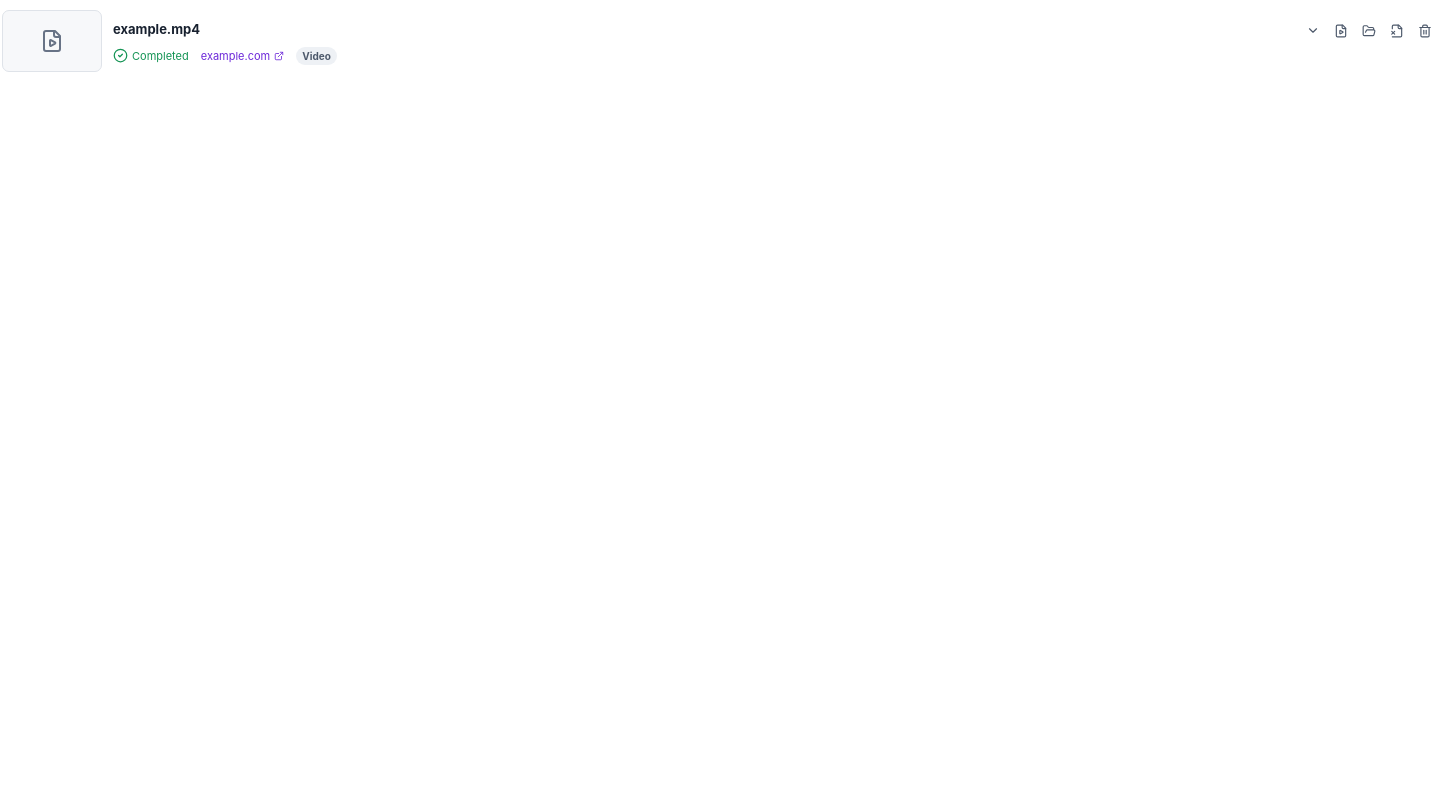
Vetch application contract › confirms file deletion in a modal dialog
The width and height of the screenshot is (1440, 810).
Click the button named "Delete file": [1397, 30] box [1384, 18, 1410, 44]
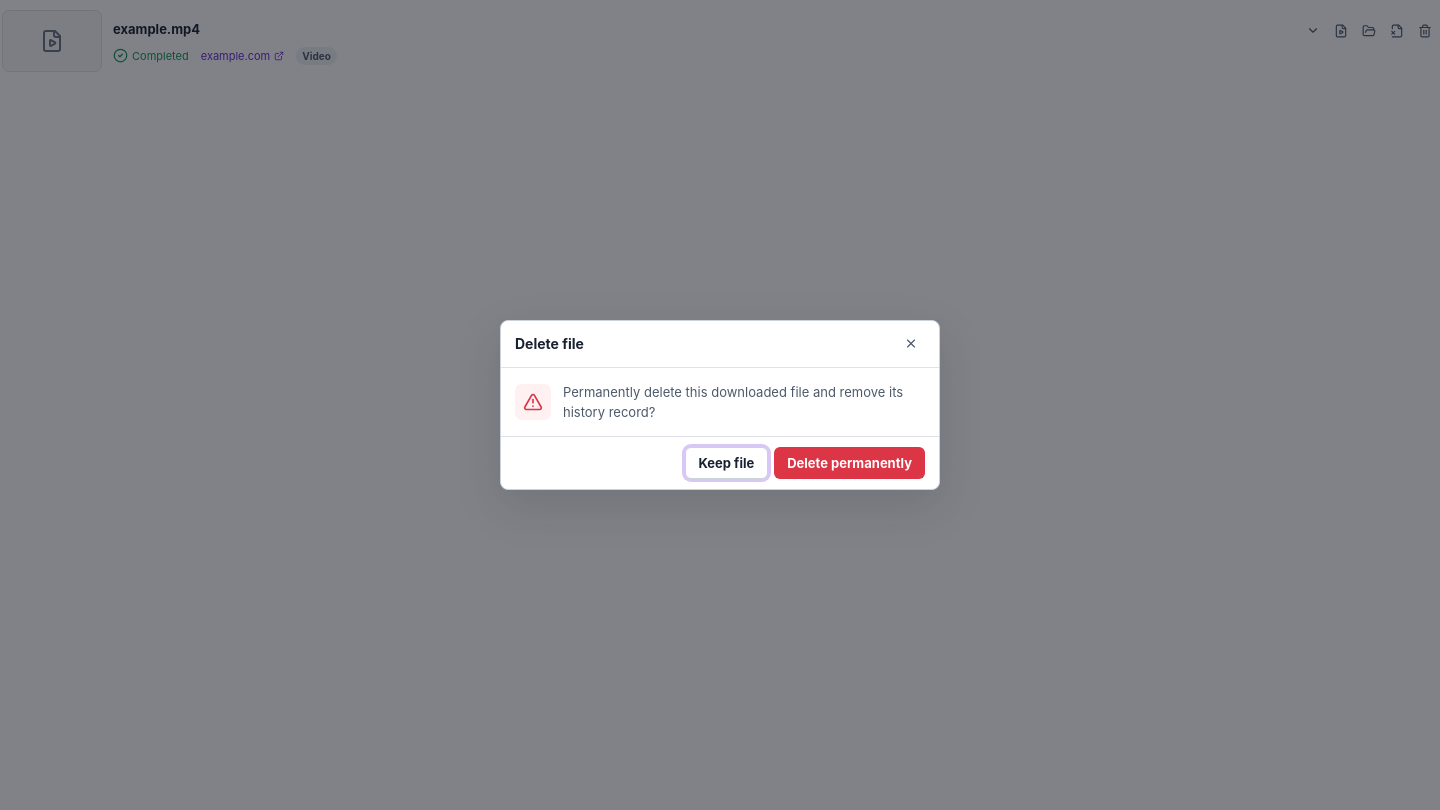
Now the element "Delete file" is shown
Press Escape
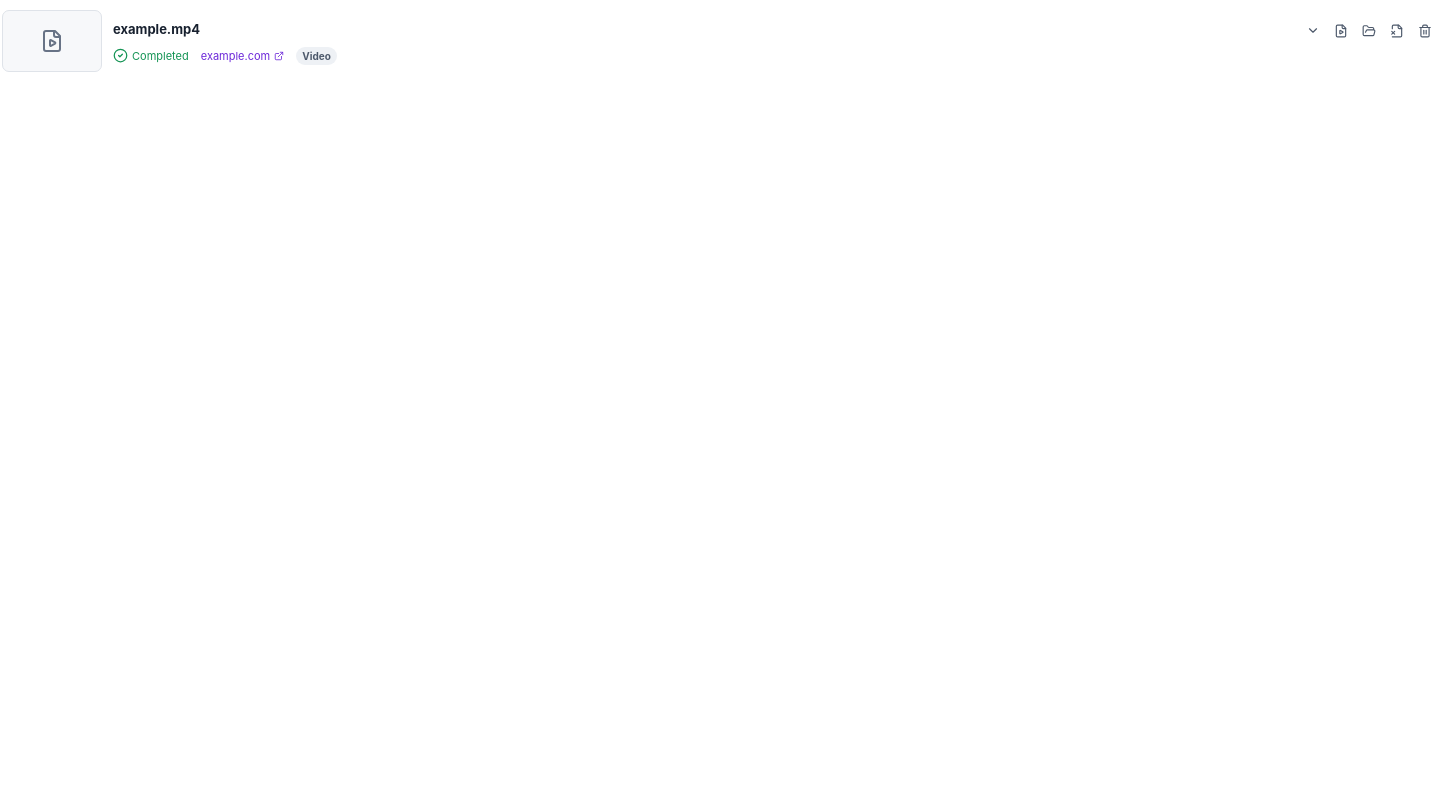
Now the heading "Delete file" is gone
Click the button named "Delete file": [1397, 30] box [1384, 18, 1410, 44]
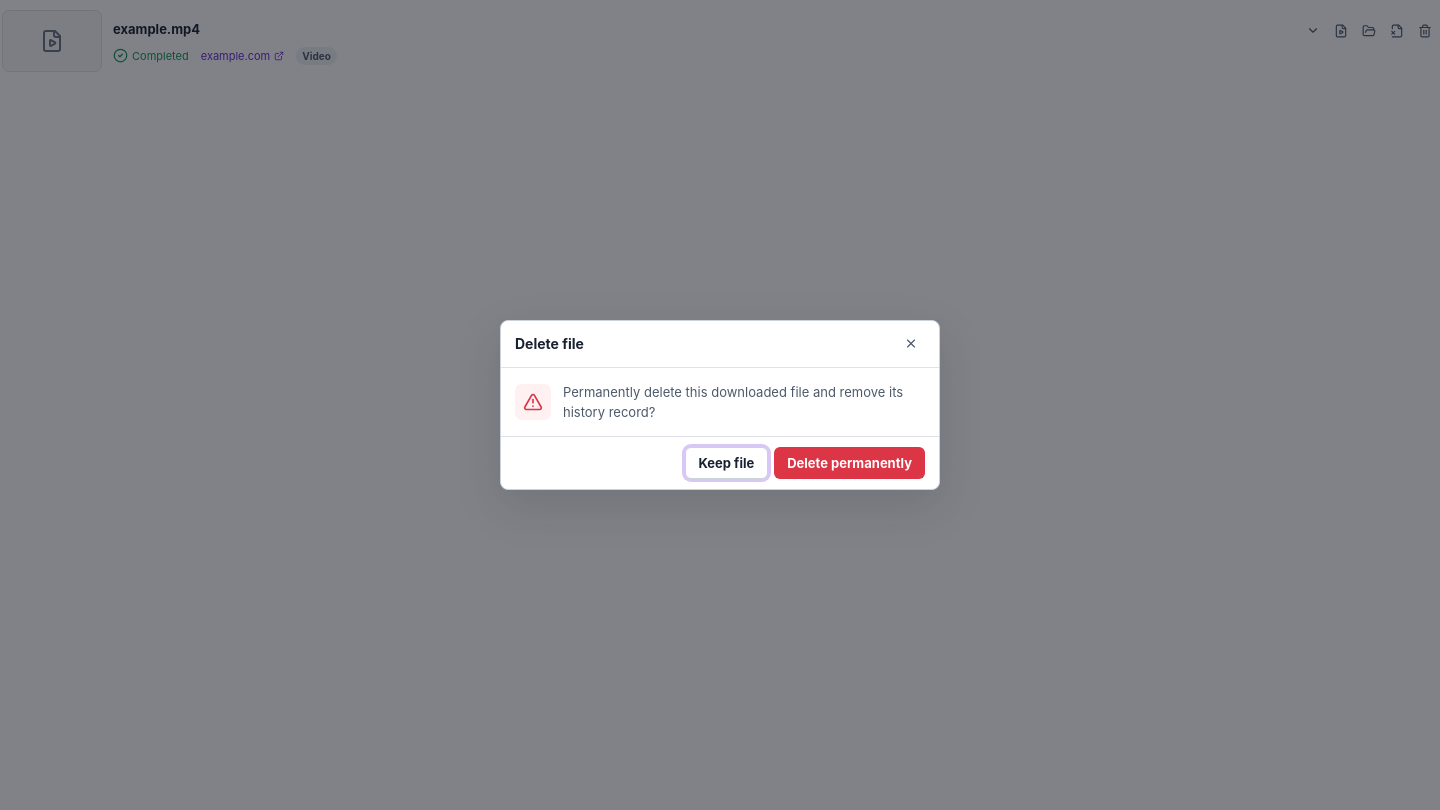
Click the button "Delete permanently": [850, 463] box [774, 447, 925, 479]
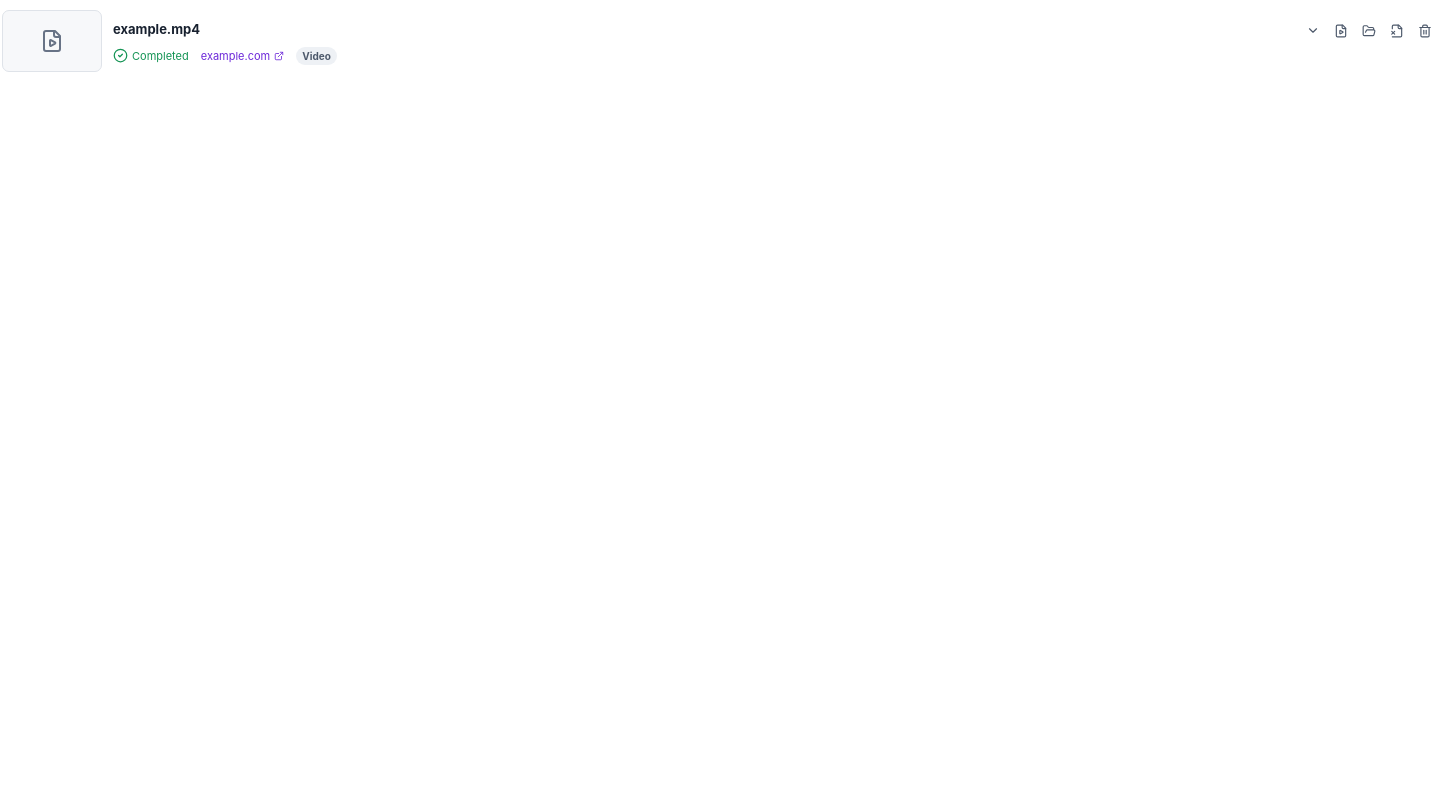
Now the heading "Delete file" is gone
